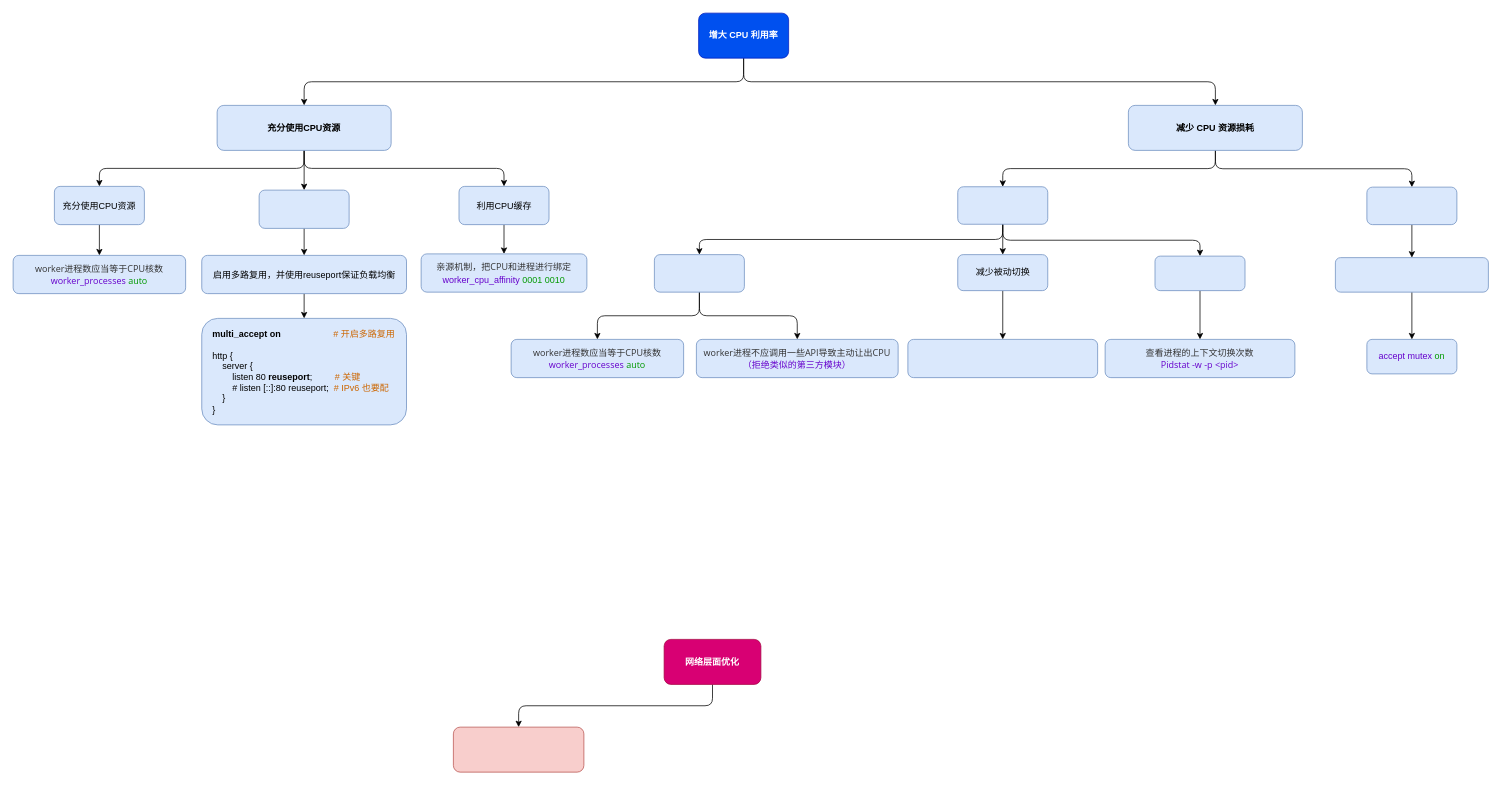
Some shapes in this 1502 by 785 pixel diagram are drawn without their labels. Here are the shapes that lost their labels. From the top down, the centre of each, then its label:
At (x=303, y=208): "多核负载均衡".
At (x=1002, y=205): "减少上下文切换".
At (x=1411, y=205): "防惊群".
At (x=699, y=273): "减少主动切换".
At (x=1199, y=273): "查看切换次数".
At (x=1411, y=274): "防治被同时唤醒所有worker".
At (x=1002, y=358): "增大进程优先级(本质上是增大时间片) worker_priority -10".
At (x=518, y=749): "三次握手中的参数优化".
